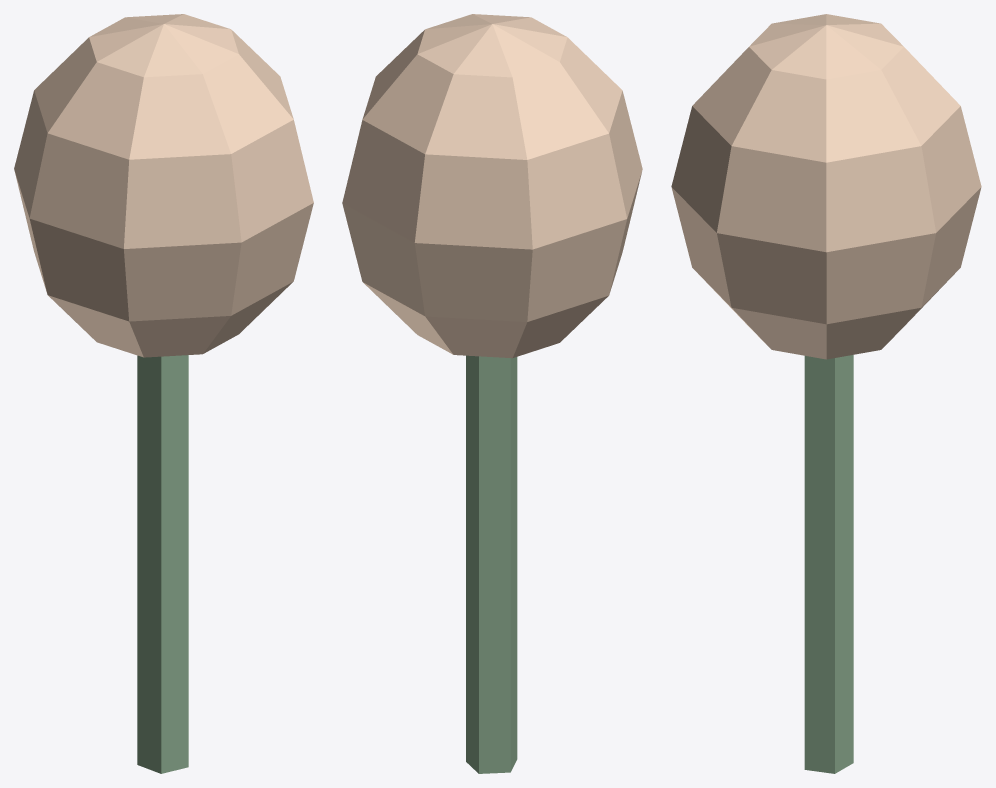
File: flora.glb
3 renders of one model, left to right at view 1: azimuth 30°, elevation 25°; view 2: azimuth 150°, elevation 25°; view 3: azimuth 270°, elevation 25°, orthographic.
Parts seen in each view (by area): view 1: Flora; view 2: Flora; view 3: Flora.
Part boxes in pixels (left/top/right/bottom): Flora: left=14, top=14, right=313, bottom=773; Flora: left=342, top=14, right=642, bottom=773; Flora: left=671, top=14, right=981, bottom=773.
Size of the model in its own units: 0.4 by 1.05 by 0.4.
